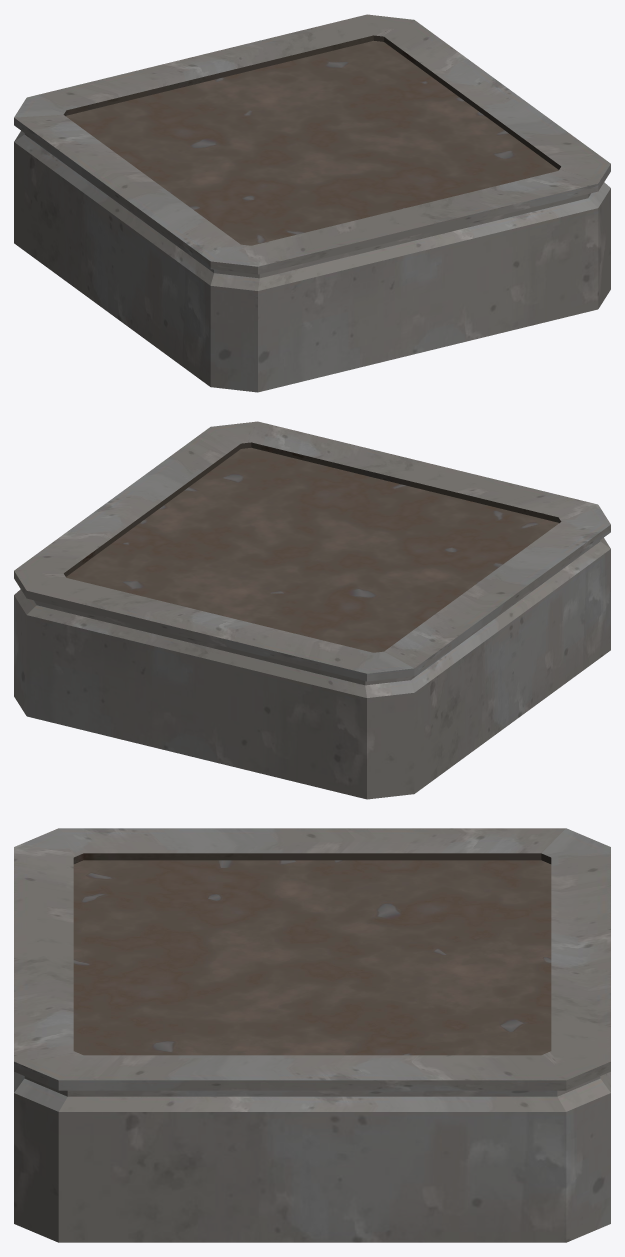
The model's file is Prop_Planter_Single.gltf.
3 views of the same model, one above another, from view 1: azimuth 30°, elevation 25°; view 2: azimuth 150°, elevation 25°; view 3: azimuth 270°, elevation 25° (orthographic). The views are drawn at different scales.
Parts seen in each view (by area): view 1: Prop_Planter_Single; view 2: Prop_Planter_Single; view 3: Prop_Planter_Single.
Boxes of the visible parts, x1,y1,x2,y2 form: Prop_Planter_Single: [14, 14, 610, 392]; Prop_Planter_Single: [14, 421, 610, 799]; Prop_Planter_Single: [14, 828, 610, 1242].
Bounding box in the file's own units: 2 × 0.6 × 2.
2 materials, 2 textured.
